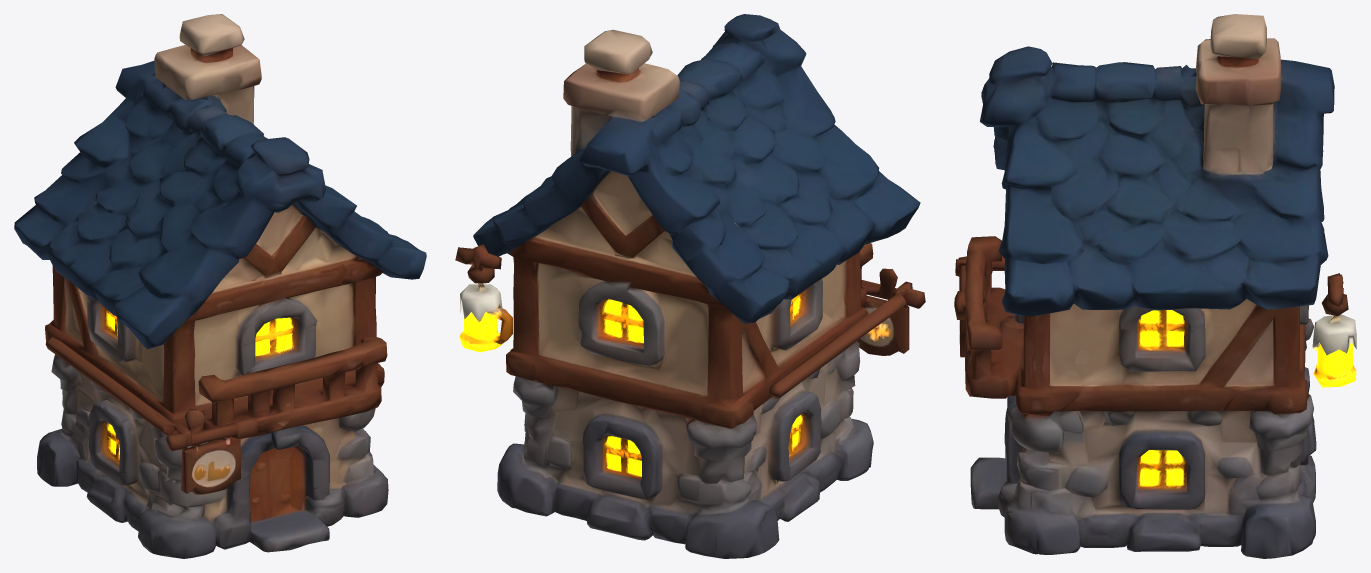
Rendered from camp_tavern-BI7TJJMO.glb.
3 views of the same model, side by side, from view 1: azimuth 30°, elevation 25°; view 2: azimuth 150°, elevation 25°; view 3: azimuth 270°, elevation 25° (orthographic). The views are drawn at different scales.
Parts seen in each view (by area): view 1: tripo_node_33b234f9-fae2-4ce3-9f7e-4772455b6e30; view 2: tripo_node_33b234f9-fae2-4ce3-9f7e-4772455b6e30; view 3: tripo_node_33b234f9-fae2-4ce3-9f7e-4772455b6e30.
Boxes of the visible parts, x1,y1,x2,y2 form: tripo_node_33b234f9-fae2-4ce3-9f7e-4772455b6e30: (14,14,426,558); tripo_node_33b234f9-fae2-4ce3-9f7e-4772455b6e30: (455,14,925,558); tripo_node_33b234f9-fae2-4ce3-9f7e-4772455b6e30: (954,14,1356,558).
Bounding box in the file's own units: 0.7084 × 1 × 0.7483.
Materials: 1 (1 with a texture image).
